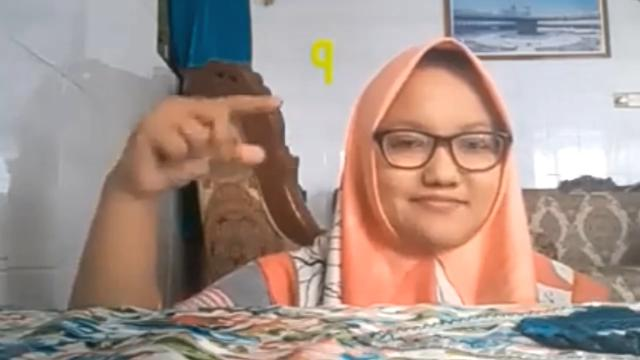Q: (113, 88, 291, 200)
